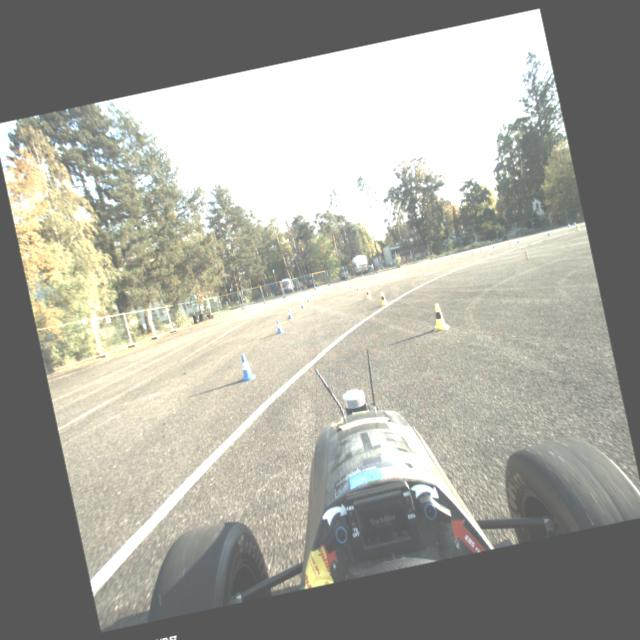blue_cone: (236, 352, 256, 382), (274, 317, 284, 333), (286, 308, 294, 318), (300, 300, 306, 308), (306, 294, 310, 302), (516, 237, 520, 243), (546, 229, 550, 235), (566, 222, 570, 228), (308, 292, 311, 298), (573, 220, 576, 226), (312, 291, 315, 296), (450, 253, 453, 258), (471, 248, 474, 253), (492, 243, 495, 248), (378, 271, 381, 275), (324, 285, 326, 290), (316, 289, 318, 293), (341, 280, 343, 284), (360, 276, 362, 280), (401, 264, 403, 268), (428, 258, 430, 262)
yellow_cone: (429, 301, 449, 331), (378, 291, 388, 307), (365, 288, 372, 300), (574, 223, 580, 230), (356, 284, 360, 294), (508, 239, 513, 246), (479, 246, 484, 252), (349, 284, 353, 291), (344, 282, 348, 288), (450, 253, 454, 259), (428, 260, 432, 264), (399, 266, 402, 270), (356, 277, 358, 282), (374, 272, 376, 276)
